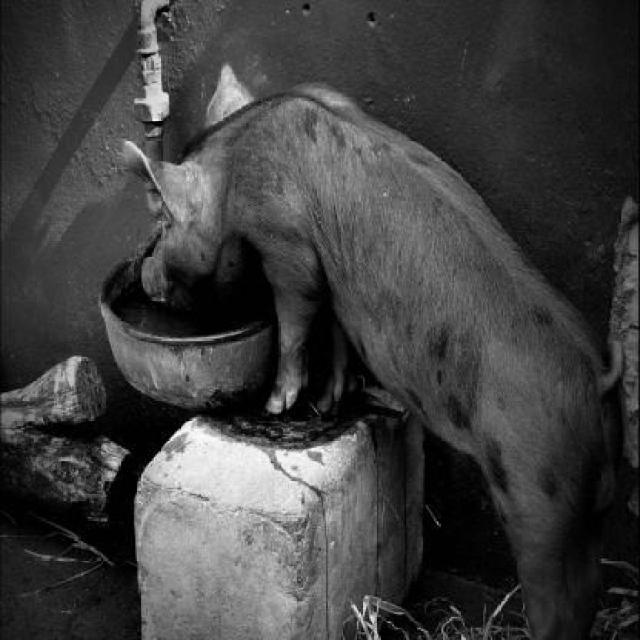Boar: (119, 61, 625, 640)
